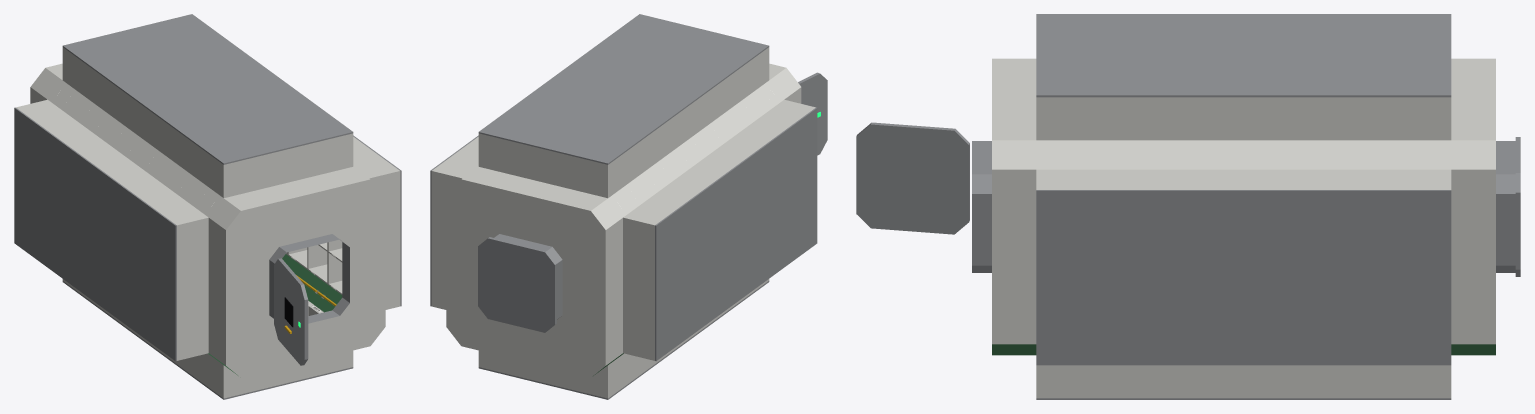
Rendered from Layout_Modulo_Rivera.fbx.
3 views of the same model, side by side, from view 1: azimuth 30°, elevation 25°; view 2: azimuth 150°, elevation 25°; view 3: azimuth 270°, elevation 25° (orthographic). The views are drawn at different scales.
Visible parts, largest first — view 1: Casco, Rack_RIV-B1, Rack_RIV-T1, Rack_RIV-B2, Rack_RIV-B4, Rack_RIV-B3, Rack_RIV-T2, Rack_RIV-T3, Rack_RIV-T4, Rack_RIV-E1, Rack_RIV-P1, Escotilla_HaciaNodo (+1 smaller); view 2: Casco, Rack_RIV-B4, Rack_RIV-T4, Rack_RIV-B3, Rack_RIV-B1, Rack_RIV-B2, Rack_RIV-T2, Rack_RIV-T3, Rack_RIV-T1, Escotilla_HaciaColonia, Rack_RIV-P4, Rack_RIV-E4 (+1 smaller); view 3: Casco, Rack_RIV-E4, Rack_RIV-E1, Rack_RIV-E2, Rack_RIV-E3, Rack_RIV-T4, Rack_RIV-T1, Rack_RIV-T2, Rack_RIV-T3, Escotilla_HaciaNodo, Rack_RIV-P4, Rack_RIV-P1 (+3 smaller).
Part boxes in pixels (x1=…): Casco: x1=30, y1=63, x2=385, y2=377; Rack_RIV-B1: x1=135, y1=188, x2=208, y2=361; Rack_RIV-T1: x1=183, y1=102, x2=353, y2=197; Rack_RIV-B2: x1=95, y1=158, x2=167, y2=331; Rack_RIV-B4: x1=14, y1=99, x2=87, y2=272; Rack_RIV-B3: x1=54, y1=129, x2=127, y2=301; Rack_RIV-T2: x1=143, y1=73, x2=312, y2=168; Rack_RIV-T3: x1=103, y1=43, x2=272, y2=138; Rack_RIV-T4: x1=62, y1=14, x2=231, y2=109; Rack_RIV-E1: x1=328, y1=141, x2=401, y2=309; Rack_RIV-P1: x1=183, y1=304, x2=353, y2=399; Escotilla_HaciaNodo: x1=274, y1=258, x2=308, y2=365; Casco: x1=446, y1=63, x2=801, y2=377; Rack_RIV-B4: x1=623, y1=188, x2=696, y2=361; Rack_RIV-T4: x1=478, y1=102, x2=648, y2=198; Rack_RIV-B3: x1=663, y1=158, x2=736, y2=331; Rack_RIV-B1: x1=744, y1=99, x2=817, y2=272; Rack_RIV-B2: x1=704, y1=129, x2=776, y2=301; Rack_RIV-T2: x1=559, y1=43, x2=728, y2=138; Rack_RIV-T3: x1=519, y1=73, x2=688, y2=168; Rack_RIV-T1: x1=599, y1=14, x2=769, y2=109; Escotilla_HaciaColonia: x1=478, y1=237, x2=556, y2=332; Rack_RIV-P4: x1=478, y1=350, x2=648, y2=399; Rack_RIV-E4: x1=430, y1=141, x2=478, y2=309; Casco: x1=972, y1=58, x2=1515, y2=355; Rack_RIV-E4: x1=1347, y1=169, x2=1451, y2=365; Rack_RIV-E1: x1=1036, y1=169, x2=1139, y2=365; Rack_RIV-E2: x1=1140, y1=169, x2=1243, y2=365; Rack_RIV-E3: x1=1244, y1=169, x2=1347, y2=365; Rack_RIV-T4: x1=1347, y1=14, x2=1451, y2=140; Rack_RIV-T1: x1=1036, y1=14, x2=1139, y2=140; Rack_RIV-T2: x1=1140, y1=14, x2=1243, y2=140; Rack_RIV-T3: x1=1244, y1=14, x2=1347, y2=140; Escotilla_HaciaNodo: x1=856, y1=122, x2=969, y2=234; Rack_RIV-P4: x1=1347, y1=365, x2=1451, y2=399; Rack_RIV-P1: x1=1036, y1=365, x2=1139, y2=399.
Size of the model in its own units: 3.4 by 3.4 by 6.72.
